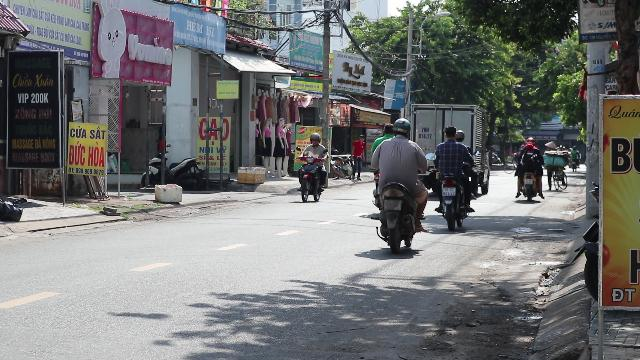helmet: (391, 117, 411, 137)
licenseplate: (384, 200, 400, 210), (442, 187, 456, 195)
motorcyclist: (364, 116, 430, 253), (432, 126, 478, 231)
nohelmet: (442, 126, 456, 140)
